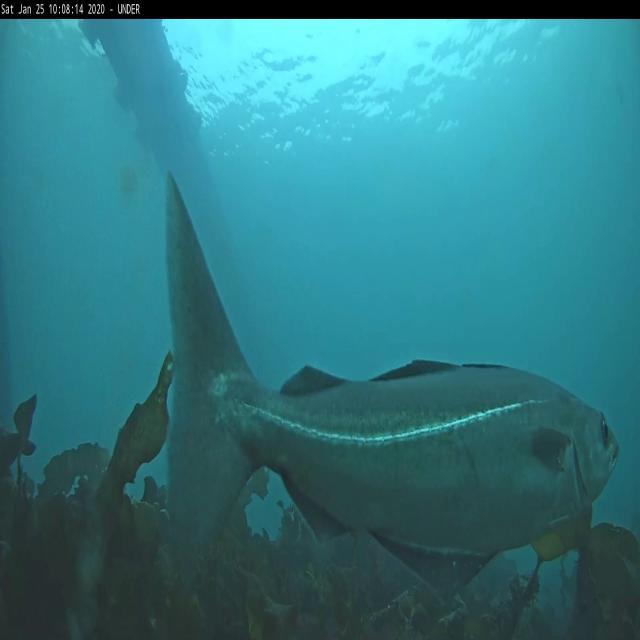fish: (162, 171, 619, 588)
